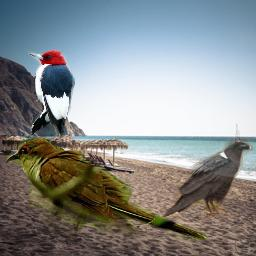Crow: (159, 139, 253, 222)
Cuckoo: (5, 136, 209, 242)
Woodpecker: (28, 47, 75, 139)
